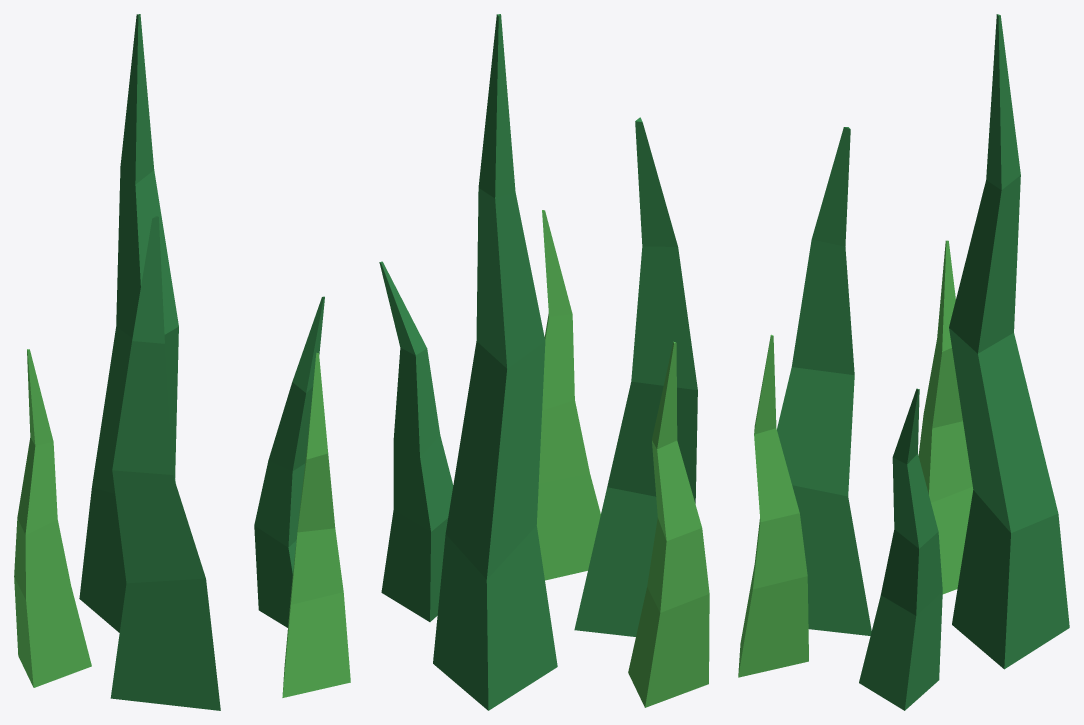
Rendered from Grass_M_flat.gltf.
The picture shows the model from 3 angles, left to right: view 1: azimuth 30°, elevation 25°; view 2: azimuth 150°, elevation 25°; view 3: azimuth 270°, elevation 25°; orthographic projection. The views are drawn at different scales.
Parts seen in each view (by area): view 1: Grass_M_flat; view 2: Grass_M_flat; view 3: Grass_M_flat.
Part boxes in pixels (bbox=[...]): Grass_M_flat: bbox=[14, 14, 350, 710]; Grass_M_flat: bbox=[379, 14, 709, 710]; Grass_M_flat: bbox=[738, 14, 1069, 710].
Size of the model in its own units: 0.8871 by 1.69 by 0.8068.
